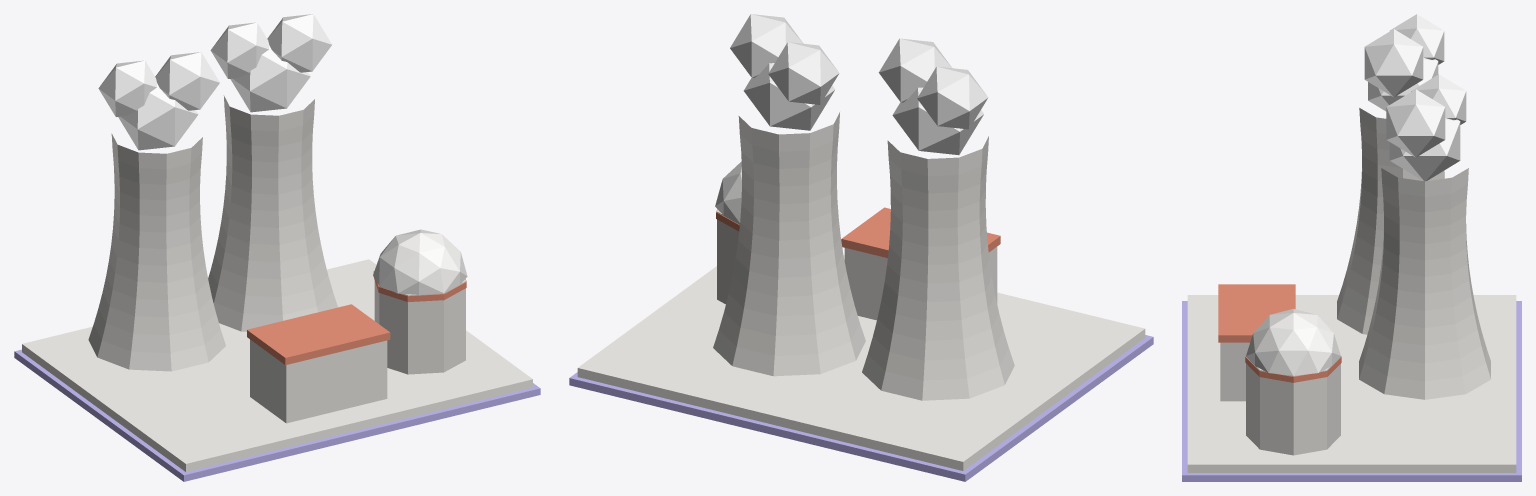
Rendered from nuclear_low.glb.
The picture shows the model from 3 angles, left to right: view 1: azimuth 30°, elevation 25°; view 2: azimuth 150°, elevation 25°; view 3: azimuth 270°, elevation 25°; orthographic projection. The views are drawn at different scales.
Visible parts, largest first — view 1: concrete, base, steam, red, rim_8b7ff0, white; view 2: concrete, base, steam, rim_8b7ff0, red, white; view 3: concrete, base, steam, rim_8b7ff0, white, red.
Boxes of the visible parts, x1,y1,x2,y2 form: concrete: (88,95,465,423); base: (22,259,532,471); steam: (98,14,331,150); red: (247,271,466,365); rim_8b7ff0: (14,349,540,481); white: (373,229,467,294); concrete: (713,112,1014,400); base: (577,255,1145,470); steam: (730,14,988,155); rim_8b7ff0: (569,335,1153,481); red: (716,207,1000,258); white: (715,161,741,223); concrete: (1220,108,1490,455); base: (1187,295,1516,472); steam: (1364,14,1466,181); rim_8b7ff0: (1182,301,1521,481); white: (1246,309,1340,375); red: (1218,284,1341,382).
Size of the model in its own units: 11.3 by 9.77 by 9.3.
